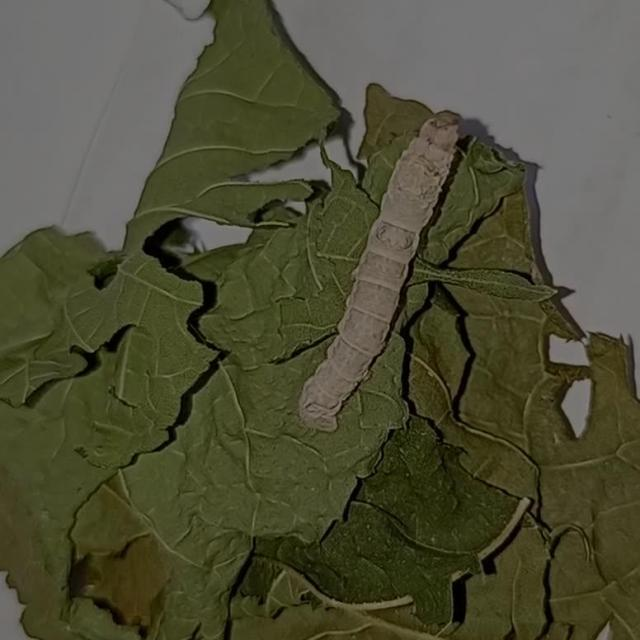Healthy: (285, 100, 477, 446)
